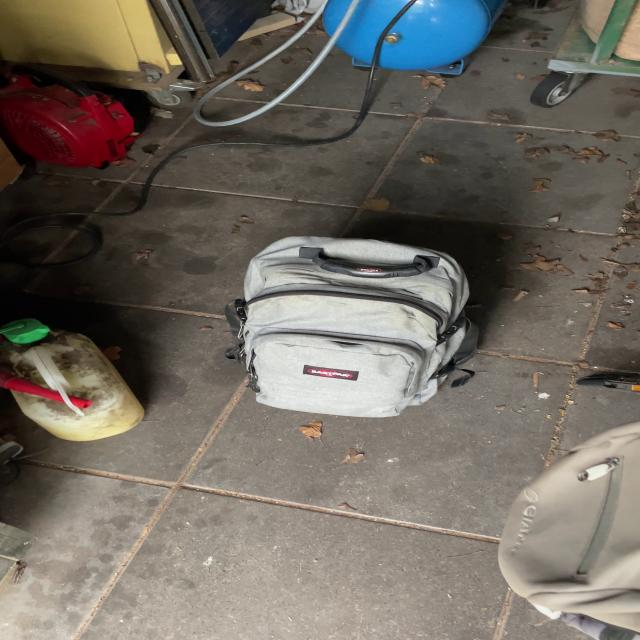backpack: (216, 228, 492, 422)
